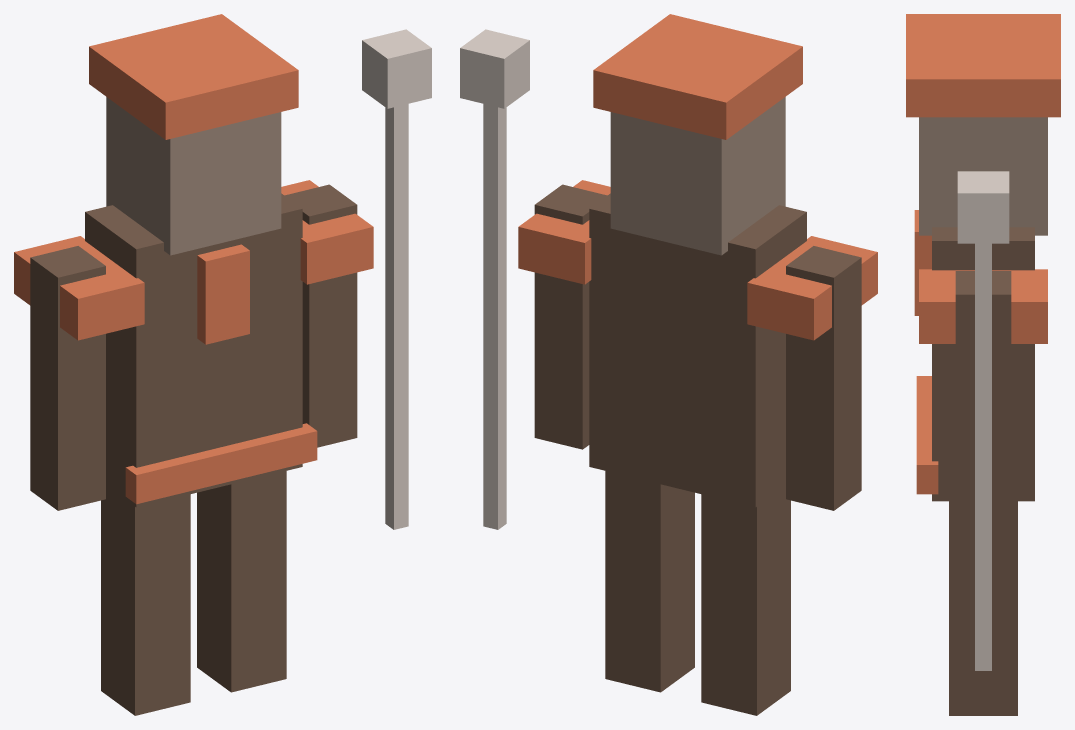
Rendered from 09_thorne_wayfare_warden_of_retrieval.glb.
The picture shows the model from 3 angles, left to right: view 1: azimuth 30°, elevation 25°; view 2: azimuth 150°, elevation 25°; view 3: azimuth 270°, elevation 25°; orthographic projection.
Visible parts, largest first — view 1: Thorne Wayfare, Warden of Retrieval; view 2: Thorne Wayfare, Warden of Retrieval; view 3: Thorne Wayfare, Warden of Retrieval.
Part boxes in pixels (x1=…): Thorne Wayfare, Warden of Retrieval: x1=14, y1=14, x2=431, y2=715; Thorne Wayfare, Warden of Retrieval: x1=460, y1=14, x2=877, y2=715; Thorne Wayfare, Warden of Retrieval: x1=906, y1=14, x2=1060, y2=715.
Bounding box in the file's own units: 0.9405 × 1.5 × 0.3336.
